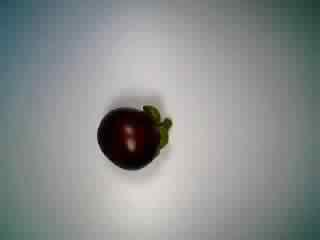mangosteen: (91, 101, 172, 174)
